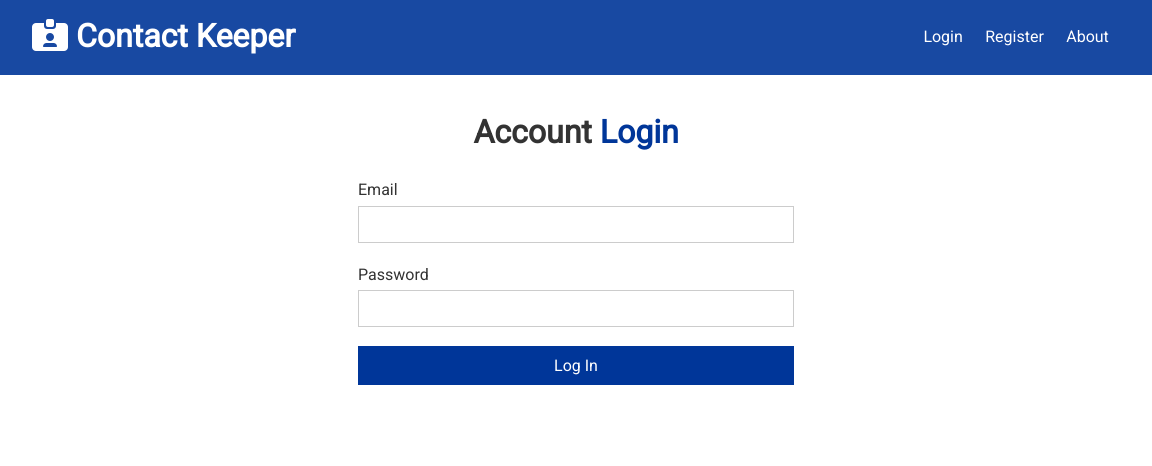
UserLogin › should display error if password is incorrect
Type "hpotter@hogwarts.io" into the field with test id "login-email".
click(576, 224); type("hpotter@hogwarts.io")  # box x1=358 y1=206 x2=794 y2=242
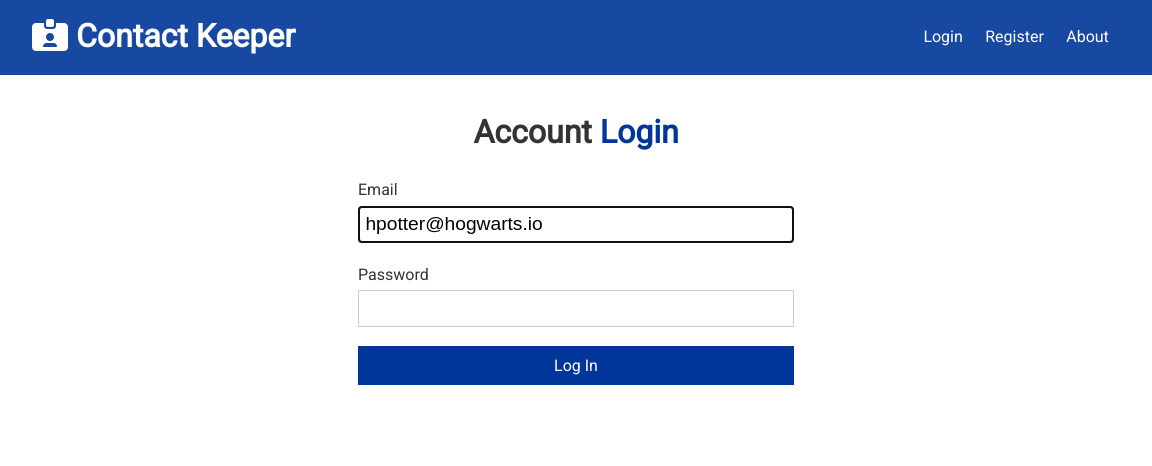
Type "xxxxxx" into the password field with test id "login-password".
click(576, 309); type("xxxxxx")  # box x1=358 y1=290 x2=794 y2=327
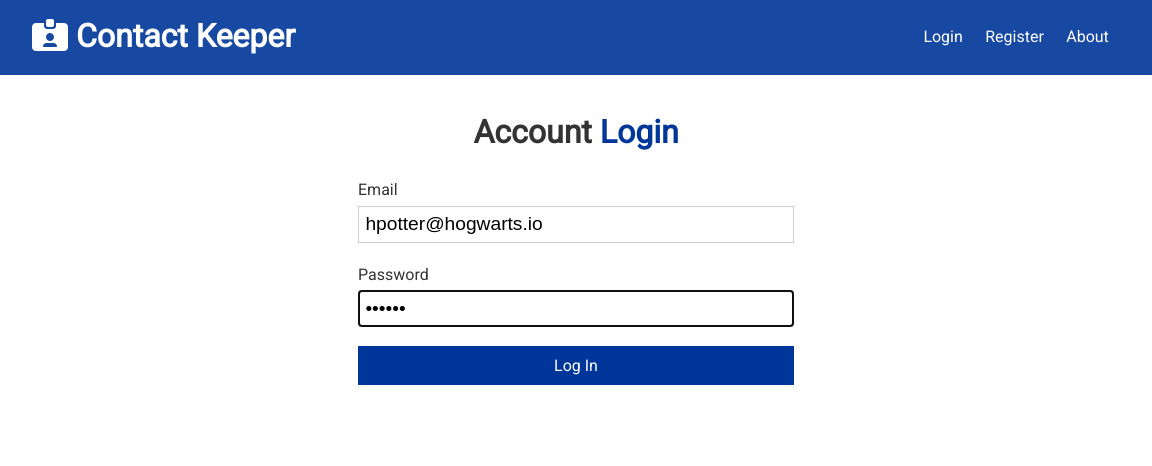
Click the button with test id "login-submit".
click(576, 366)  # box x1=358 y1=346 x2=794 y2=385
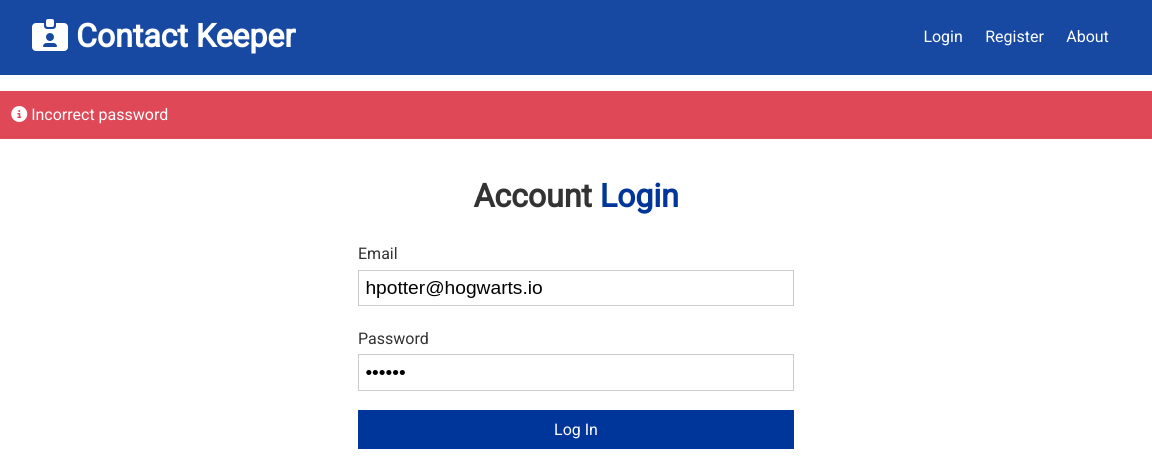
expect the text "Incorrect password" is shown: met, box x1=0 y1=91 x2=1151 y2=139
